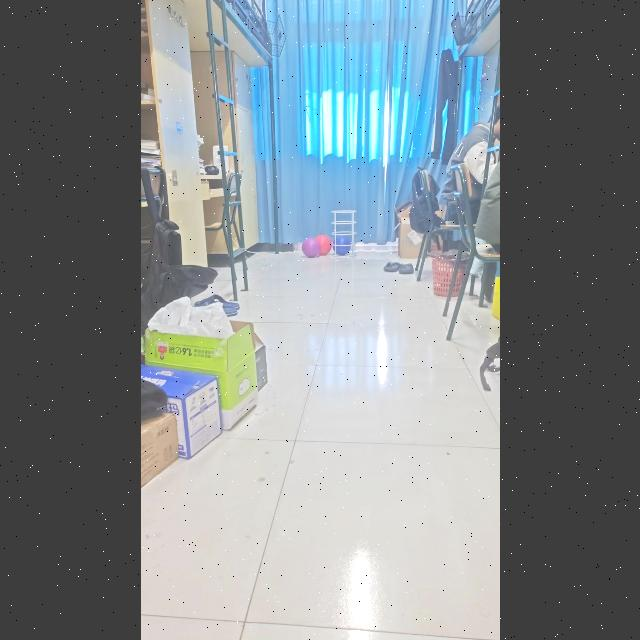B: (338, 234, 354, 256)
P: (303, 238, 317, 260)
R: (315, 234, 333, 256)
S: (332, 208, 353, 255)
